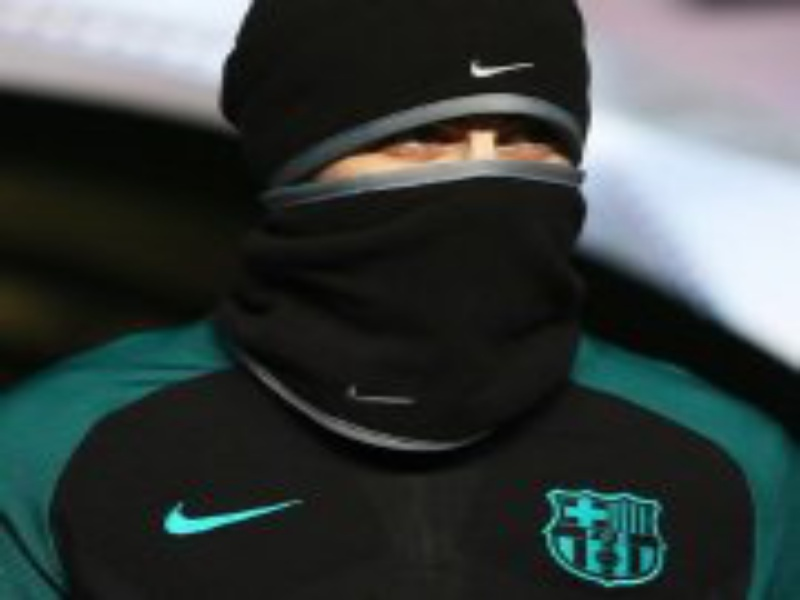mask: (239, 1, 619, 339)
